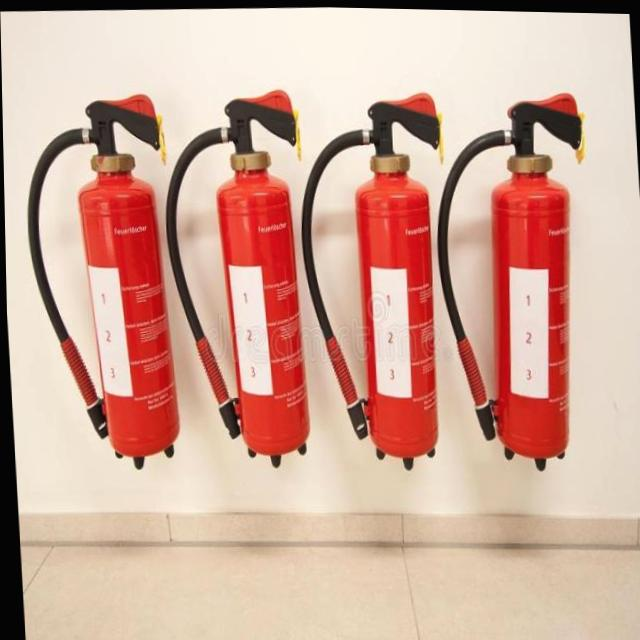FireExtinguisher: (424, 81, 606, 478), (289, 79, 460, 473), (155, 80, 321, 472), (19, 86, 186, 472)
